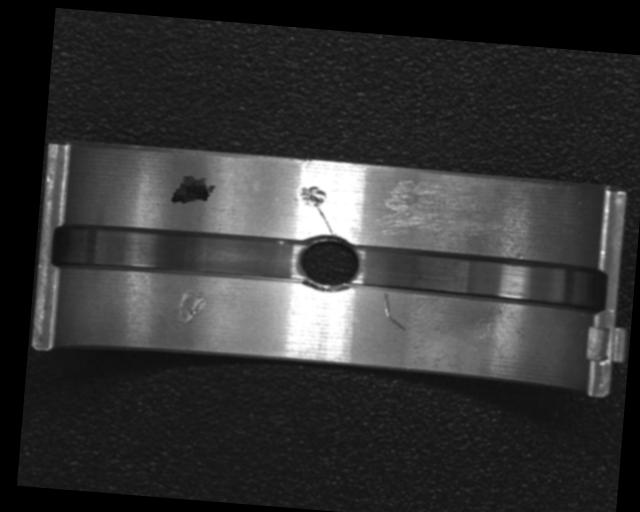blot: (169, 175, 216, 207)
bruise: (174, 288, 209, 329), (296, 185, 330, 209)
gap: (355, 243, 607, 315), (52, 218, 303, 289)
hole: (294, 229, 364, 296)
nick: (380, 292, 410, 331), (310, 202, 338, 237)
scratch: (381, 179, 507, 247)
